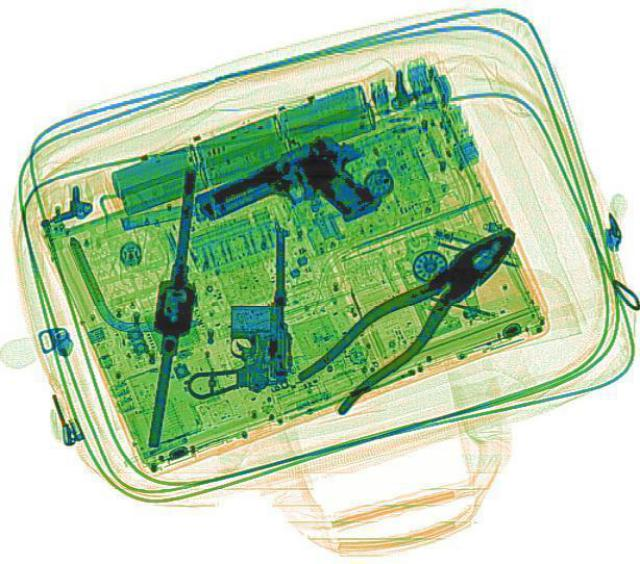Gun: (186, 123, 394, 268), (188, 232, 292, 396)
Pliers: (289, 208, 537, 418)
